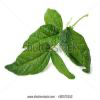Soyabean leaf: (3, 43, 53, 76), (20, 23, 63, 50), (50, 47, 76, 81), (44, 7, 65, 33)
